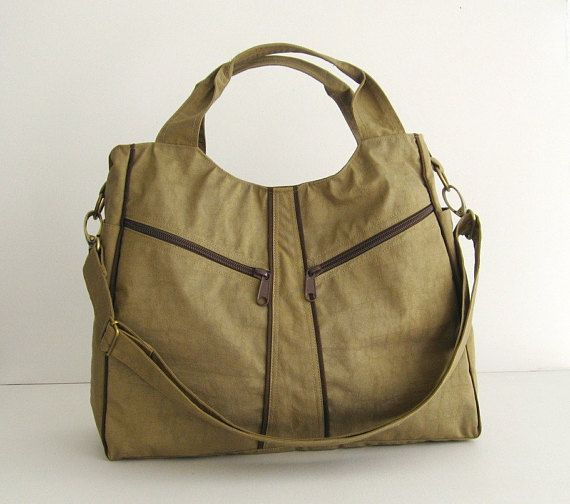nylon: (83, 43, 485, 462)
